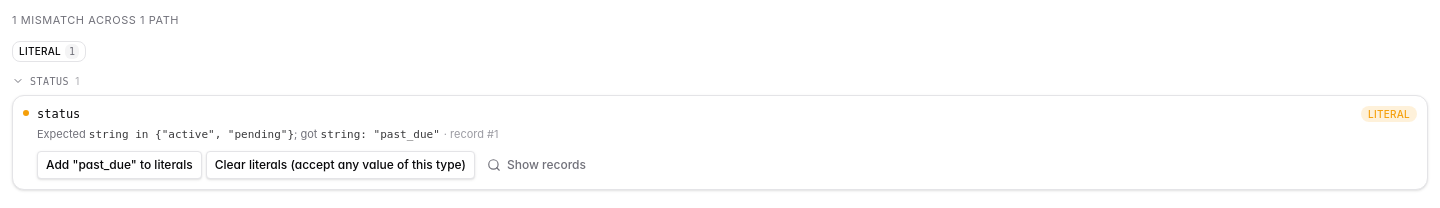
MismatchPanel › W5-MP5: clicking the group header toggles its entries
Expected: the button "Add \"past_due\" to literals" is shown, [37,151,202,179]
Click the button "status 1": (50, 81) [12,74,1428,88]
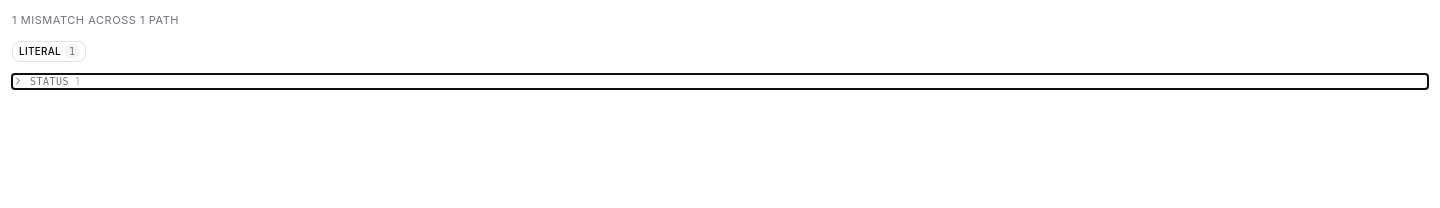
Now the button "Add \"past_due\" to literals" is gone
